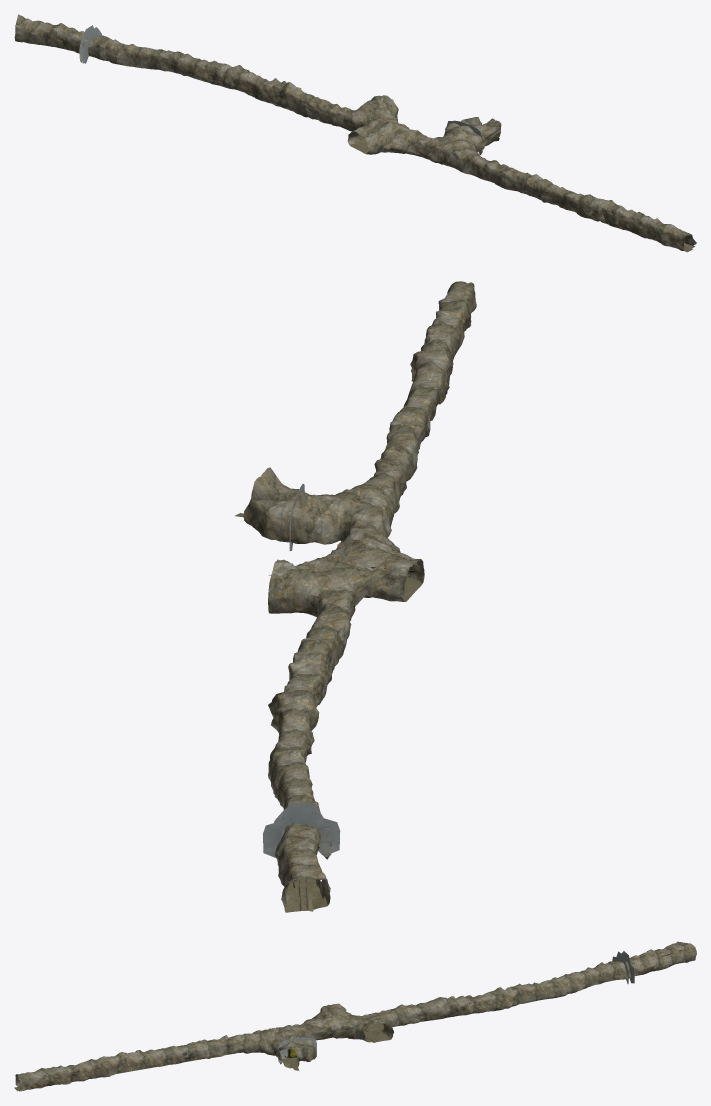
The model's file is Edgar_Section_01.DAE.
3 views of the same model, one above another, from view 1: azimuth 30°, elevation 25°; view 2: azimuth 150°, elevation 25°; view 3: azimuth 270°, elevation 25° (orthographic). The views are drawn at different scales.
Parts seen in each view (by area): view 1: Section_01_Walls, Section_01_Doors; view 2: Section_01_Walls, Section_01_Doors, Section_01_Ground; view 3: Section_01_Walls, Section_01_Doors, Section_01_Ground.
Boxes of the visible parts, x1=… form: Section_01_Walls: x1=15, y1=14, x2=696, y2=250; Section_01_Doors: x1=79, y1=25, x2=482, y2=154; Section_01_Walls: x1=243, y1=281, x2=476, y2=911; Section_01_Doors: x1=263, y1=484, x2=340, y2=859; Section_01_Ground: x1=235, y1=513, x2=422, y2=912; Section_01_Walls: x1=15, y1=941, x2=696, y2=1091; Section_01_Doors: x1=277, y1=951, x2=634, y2=1064; Section_01_Ground: x1=16, y1=1011, x2=489, y2=1091.
Bounding box in the file's own units: 4447 × 441 × 9725.
Materials: 7 (7 with a texture image).
